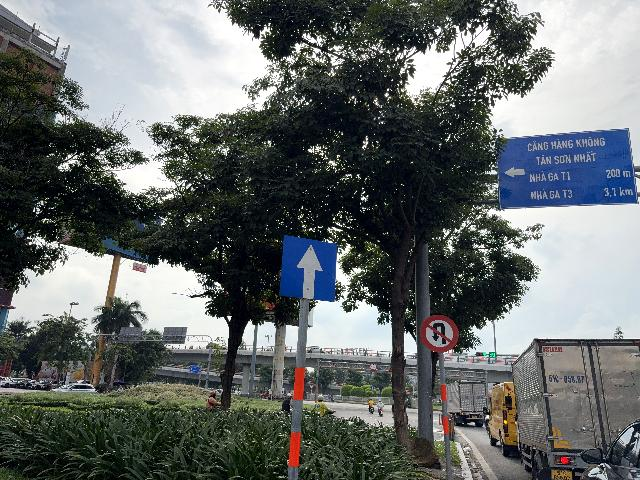cam-quay-dau-xe: (420, 314, 459, 353)
duong-mot-chieu: (279, 235, 338, 302)
